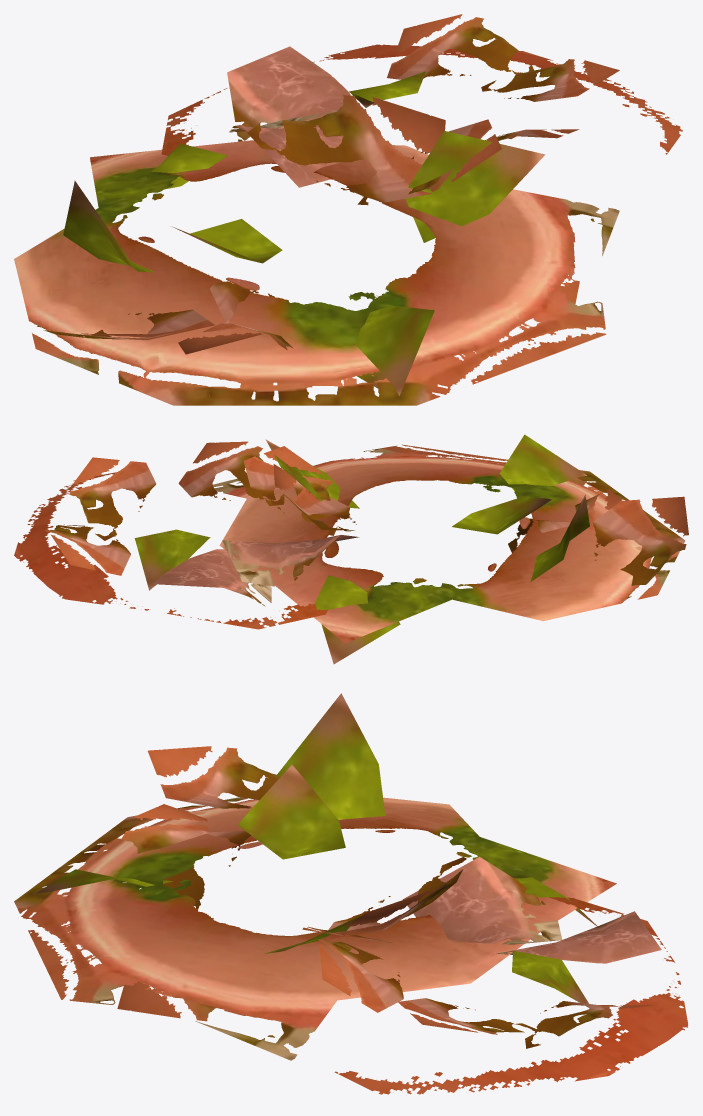
3 views of the same model, one above another, from view 1: azimuth 30°, elevation 25°; view 2: azimuth 150°, elevation 25°; view 3: azimuth 270°, elevation 25° (orthographic). The views are drawn at different scales.
Visible parts, largest first — view 1: SM_Herb_Crushed_Venison_01_LOD0; view 2: SM_Herb_Crushed_Venison_01_LOD0; view 3: SM_Herb_Crushed_Venison_01_LOD0.
Boxes of the visible parts, bbox=[...] form: SM_Herb_Crushed_Venison_01_LOD0: bbox=[14, 14, 682, 405]; SM_Herb_Crushed_Venison_01_LOD0: bbox=[14, 434, 688, 664]; SM_Herb_Crushed_Venison_01_LOD0: bbox=[14, 693, 688, 1094].
Bounding box in the file's own units: 2.26 × 0.5373 × 1.93.
